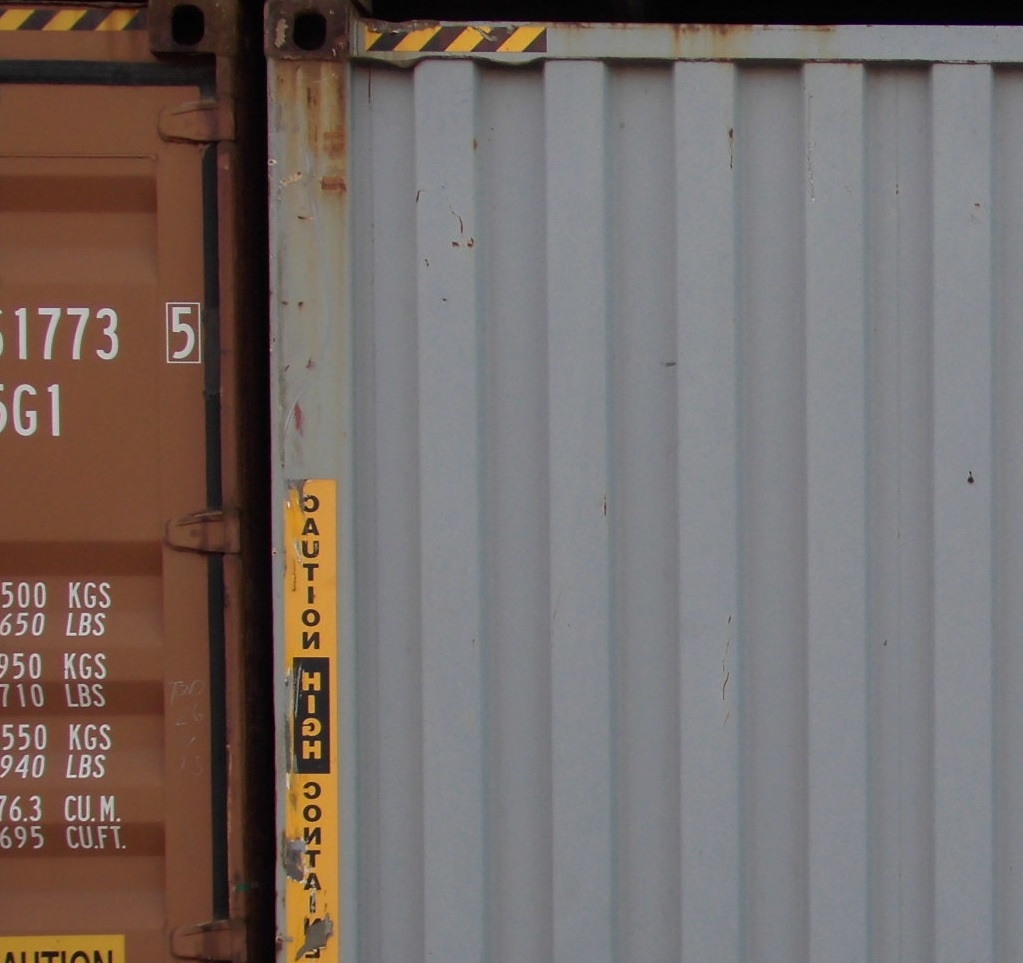container_no_door: (259, 7, 1016, 961)
